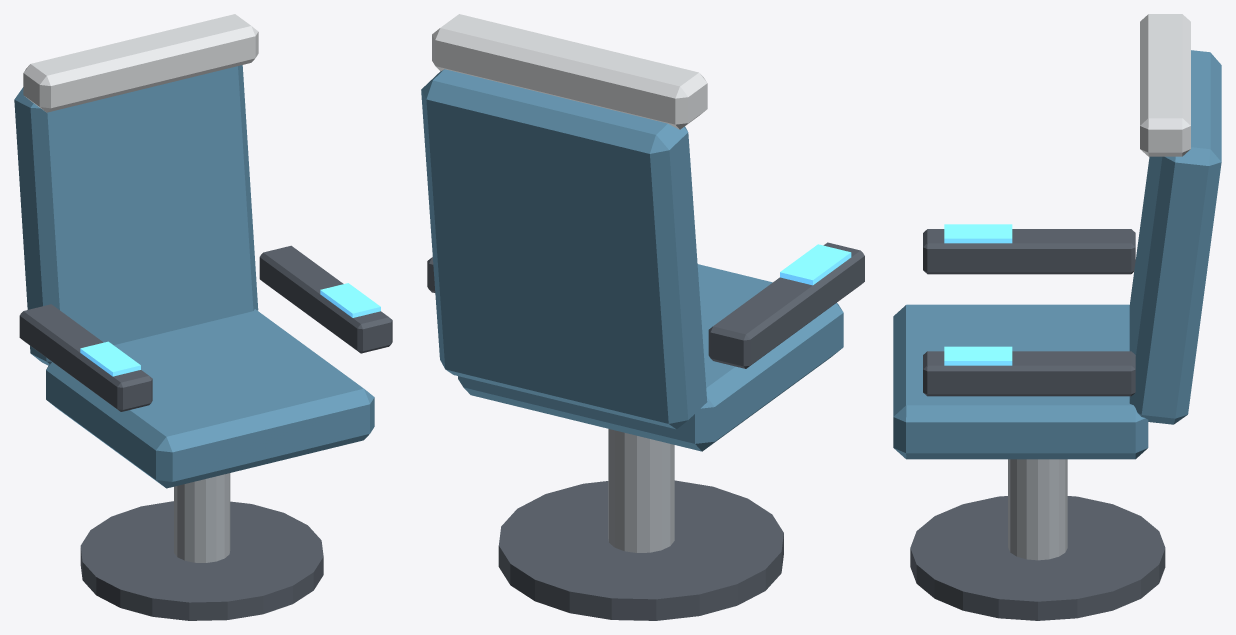
The model's file is spaceship-deck-kit-captain-chair-a4d87655__12569.glb.
3 views of the same model, side by side, from view 1: azimuth 30°, elevation 25°; view 2: azimuth 150°, elevation 25°; view 3: azimuth 270°, elevation 25° (orthographic). The views are drawn at different scales.
Visible parts, largest first — view 1: captain-chair; view 2: captain-chair; view 3: captain-chair.
Part boxes in pixels (x1,y1,x2,y2): captain-chair: [14, 14, 392, 620]; captain-chair: [421, 14, 864, 620]; captain-chair: [893, 14, 1221, 620].
Size of the model in its own units: 0.78 by 1.3 by 0.7721.
